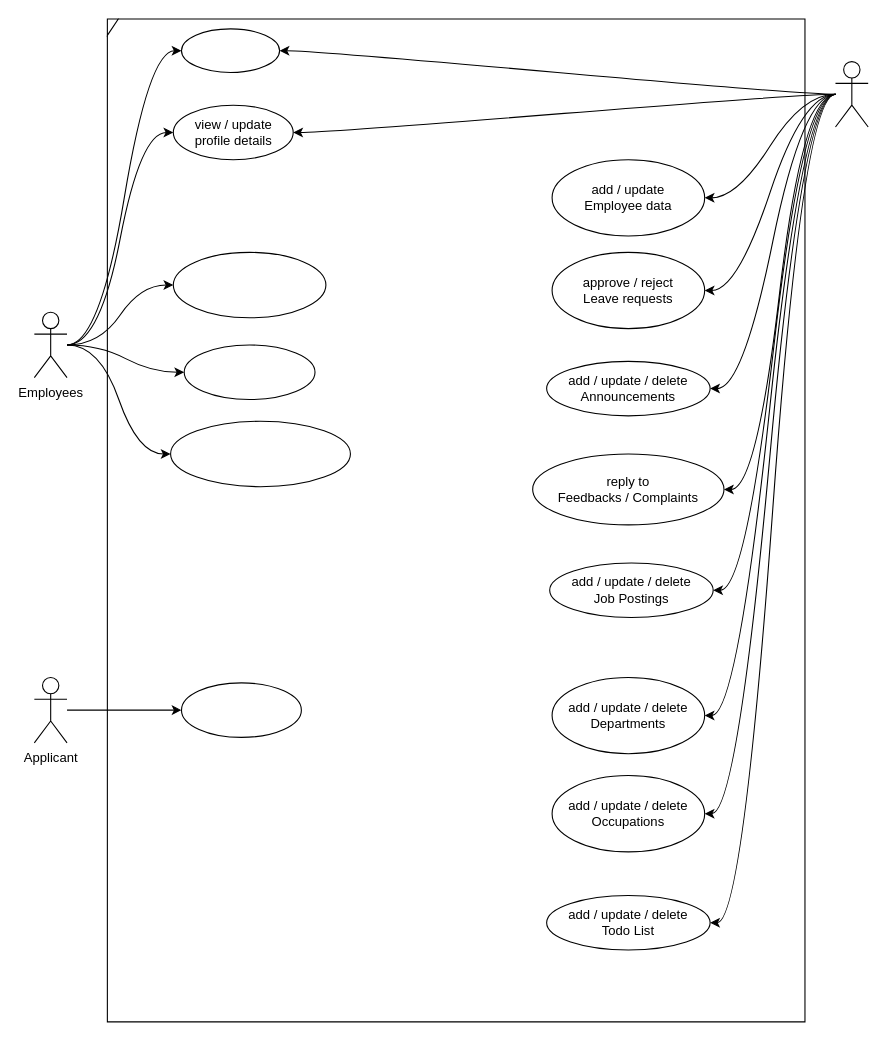
The diagram is 896 pixels wide and 1041 high, and some of its shapes have lost their labels. Each missing label, with the centre of its shape:
"apply / view status of Leave Requests" belongs at [249,284].
"chat / give feedback to HR" belongs at [259,453].
"HR Manager" belongs at [851,93].
"Login" belongs at [230,50].
"view / apply to Job Postings" belongs at [240,709].
"view Announcements" belongs at [249,371].
